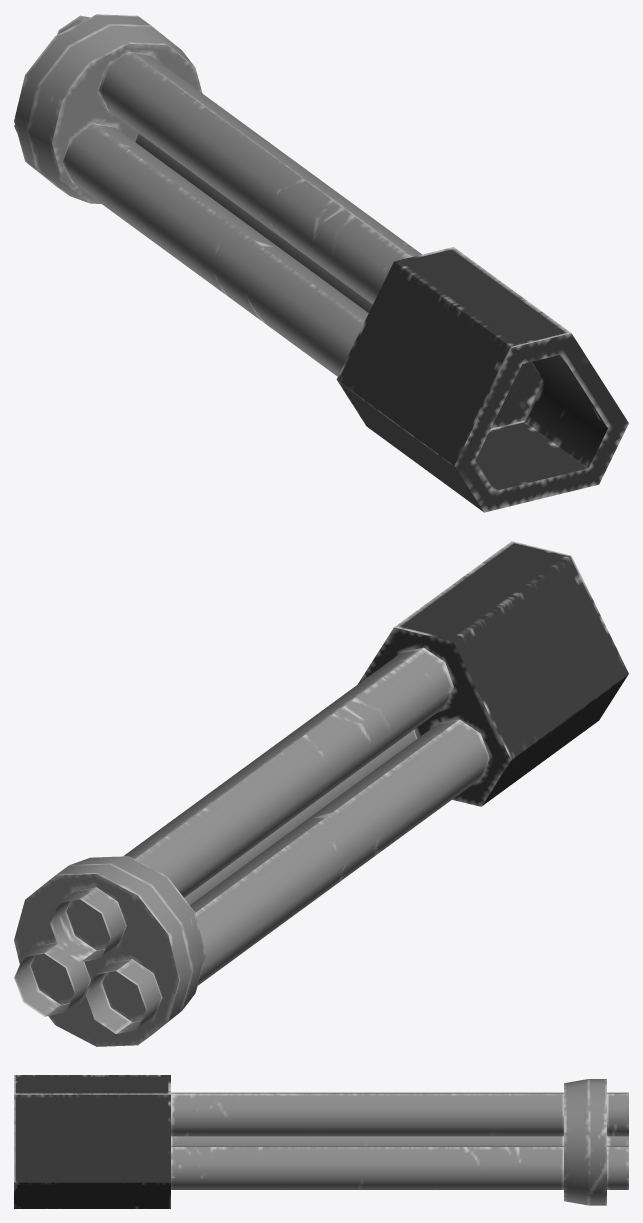
The model's file is 20mm Barrel Fix.fbx.
3 views of the same model, one above another, from view 1: azimuth 30°, elevation 25°; view 2: azimuth 150°, elevation 25°; view 3: azimuth 270°, elevation 25° (orthographic). The views are drawn at different scales.
Parts seen in each view (by area): view 1: 20mm Barrel; view 2: 20mm Barrel; view 3: 20mm Barrel.
Part boxes in pixels (left/top/right/bottom): 20mm Barrel: left=14, top=14, right=628, bottom=512; 20mm Barrel: left=14, top=541, right=628, bottom=1046; 20mm Barrel: left=14, top=1075, right=628, bottom=1208.
Size of the model in its own units: 27.83 by 127 by 26.35.
